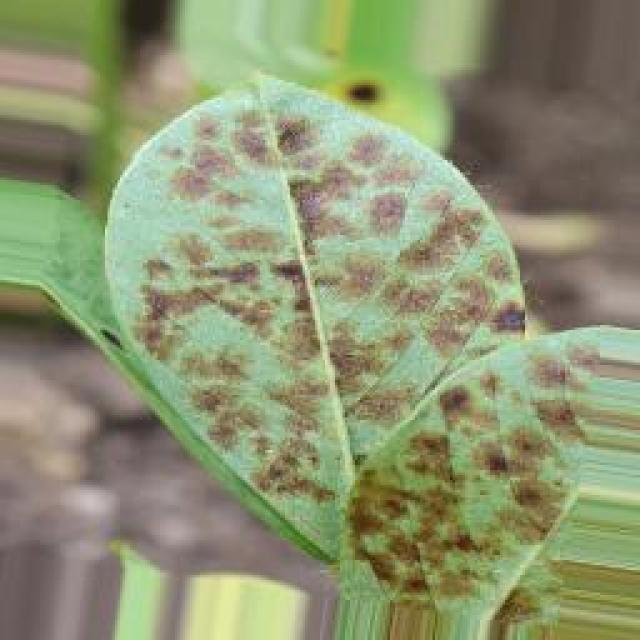Whitefly: (63, 67, 580, 603)
